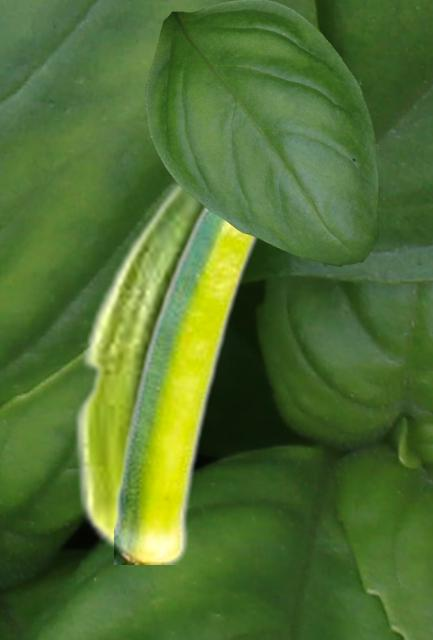okra: (114, 203, 261, 563), (73, 182, 201, 552)
